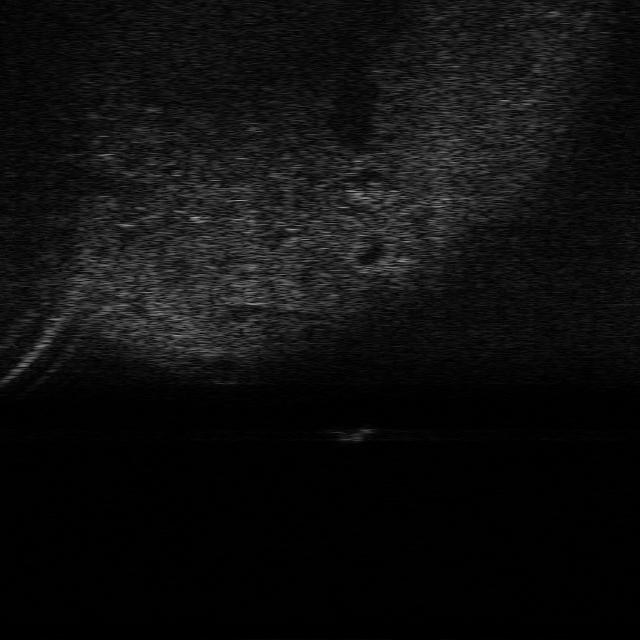cube: (328, 421, 378, 445)
